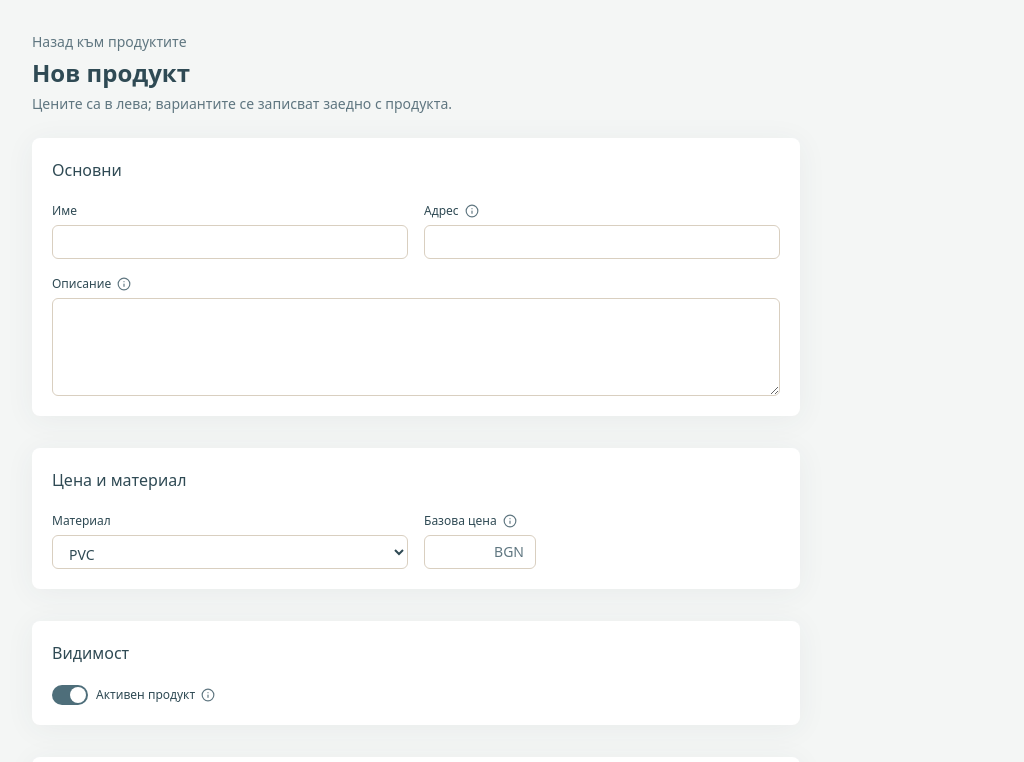
Test: ProductEditor › create mode: no danger zone, sends the raw form to createProductAction
Type "Нов" into the field labelled "Име" at (230, 242), box [52,225,408,259]
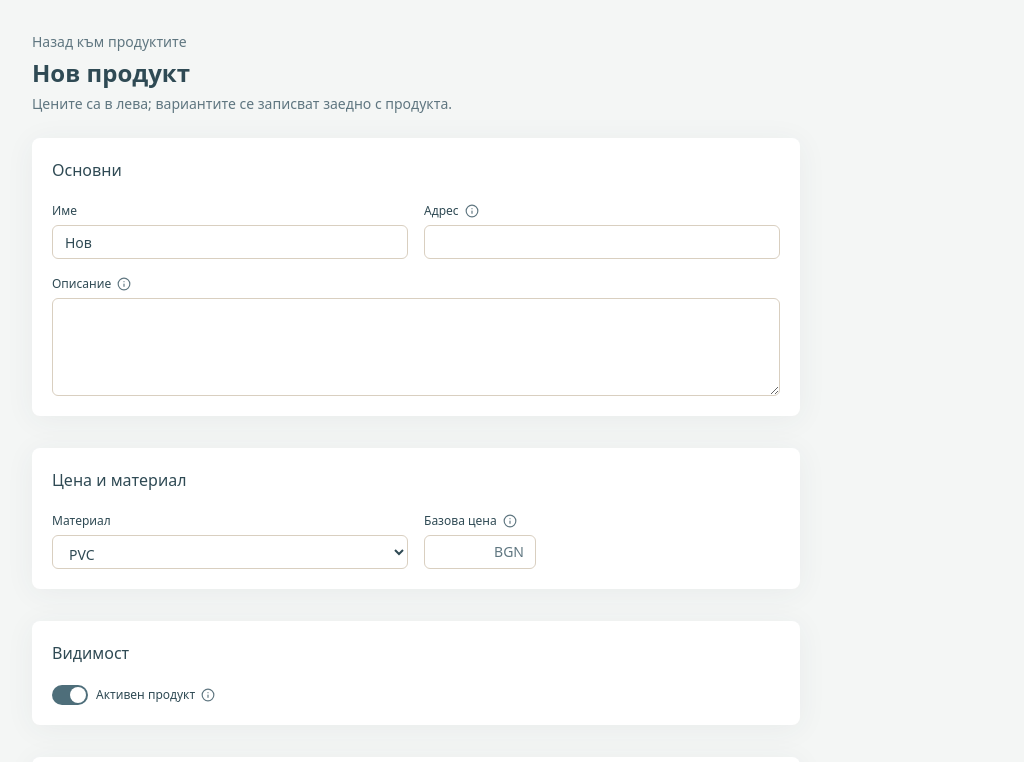
Type "nov" into the field labelled "Адрес" at (602, 242), box [424,225,780,259]
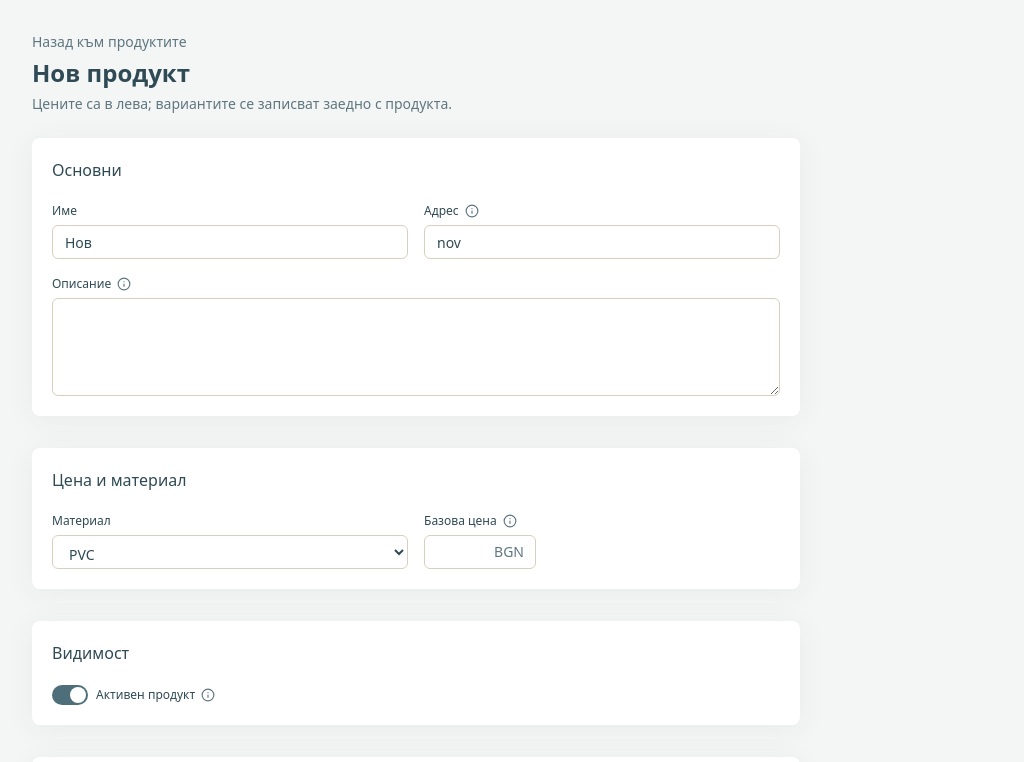
Type "19,90" into the field labelled "Базова цена" at (480, 552), box [424,535,536,569]
(page scrolled)
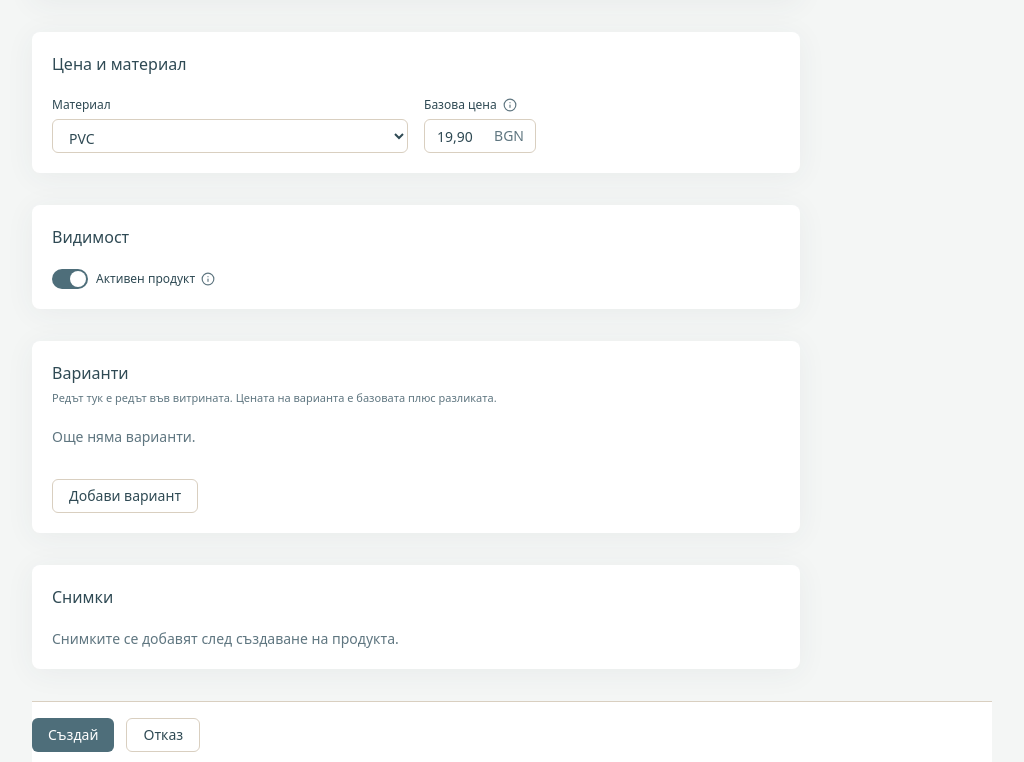
Click the button "Създай" at (73, 734), box [32,718,114,752]
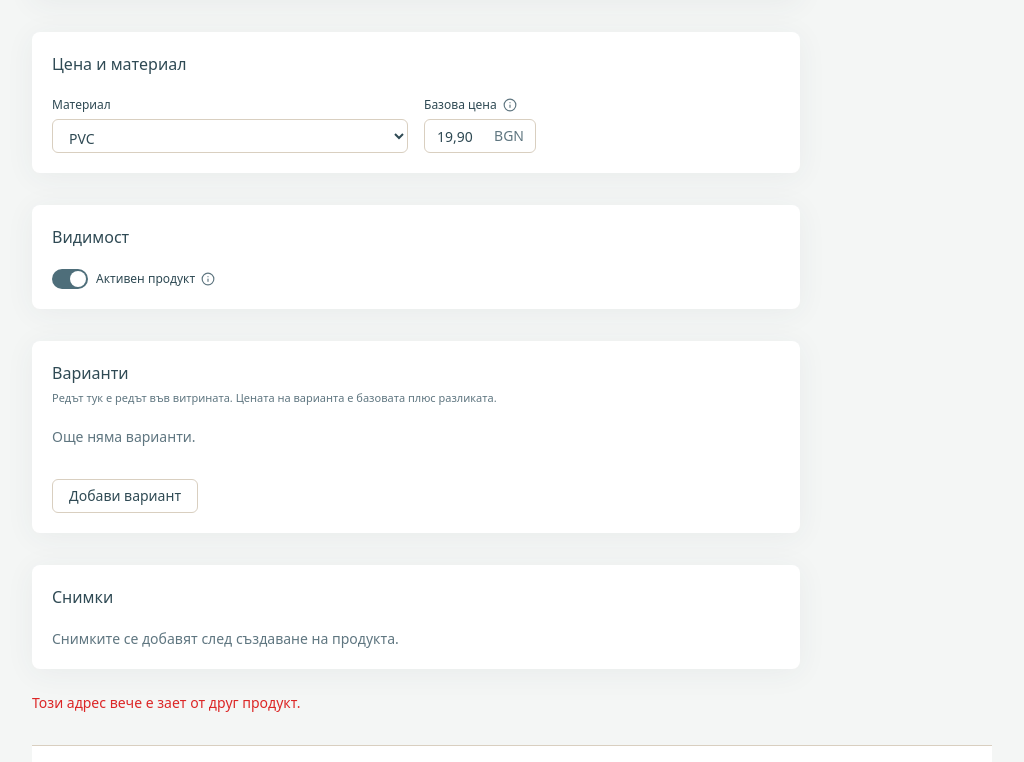
Result: the message reads "Този адрес вече е зает от друг продукт." at [32,692,300,712]
